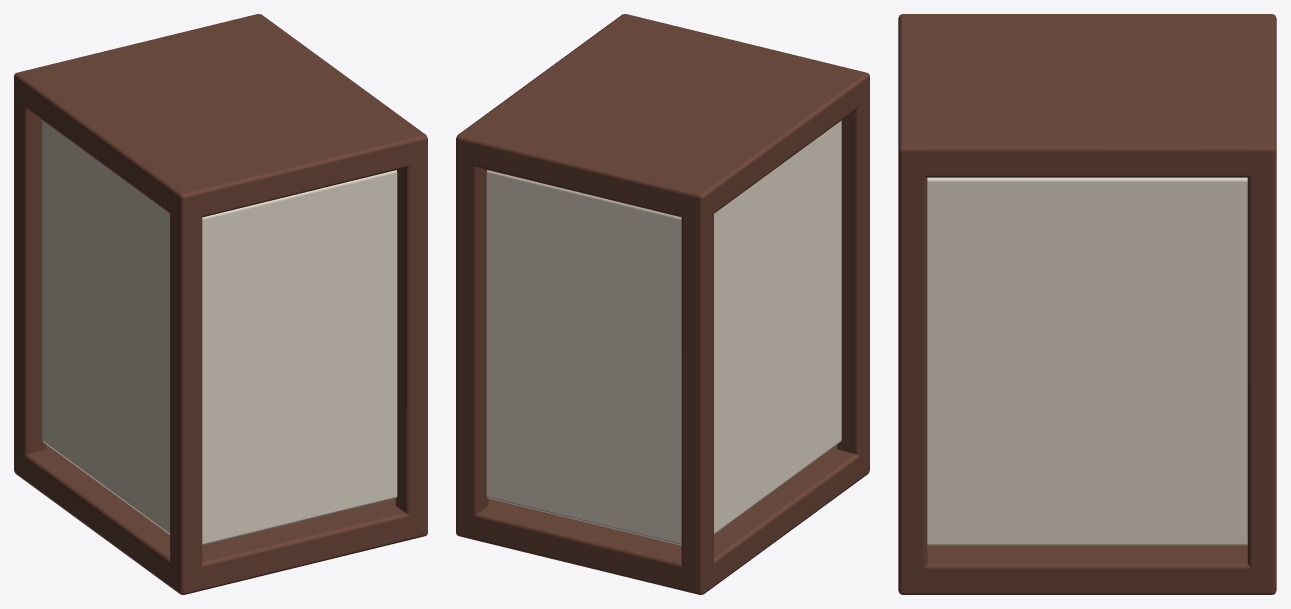
File: show_spa_lantern.glb
3 renders of one model, left to right at view 1: azimuth 30°, elevation 25°; view 2: azimuth 150°, elevation 25°; view 3: azimuth 270°, elevation 25°, orthographic. The views are drawn at different scales.
Bounding box in the file's own units: 0.55 × 0.85 × 0.649.
